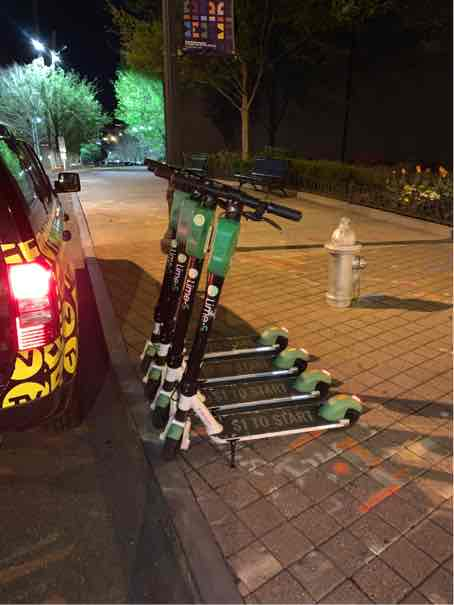too close: (128, 419, 200, 479)
